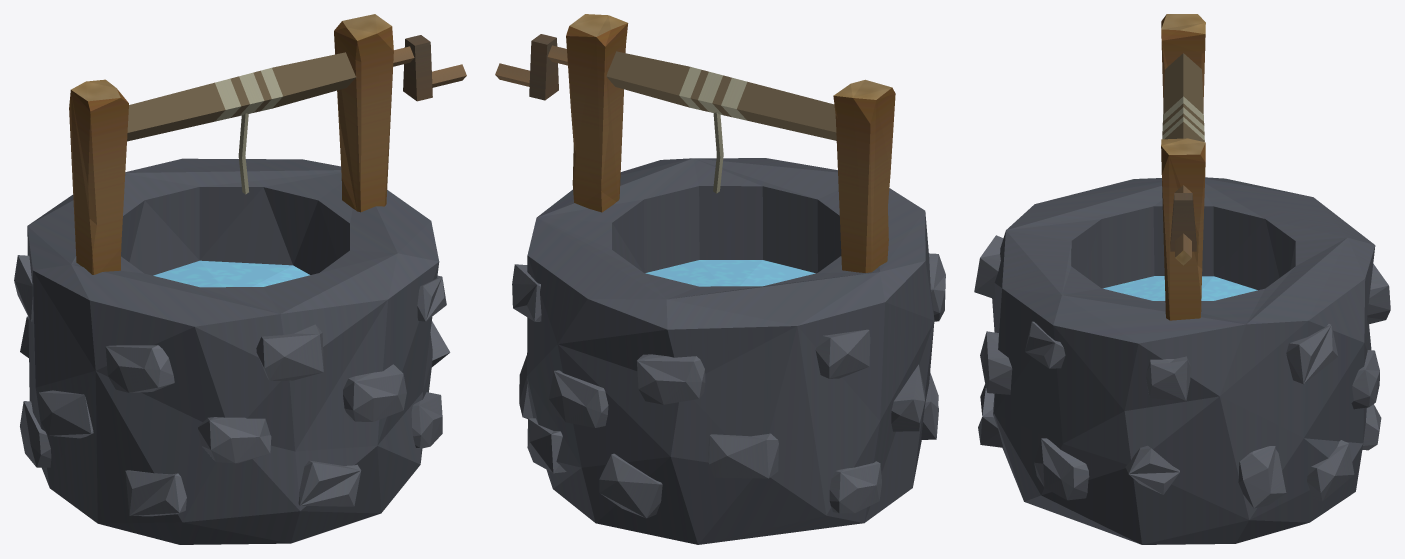
The model's file is Well_2.fbx.
3 views of the same model, side by side, from view 1: azimuth 30°, elevation 25°; view 2: azimuth 150°, elevation 25°; view 3: azimuth 270°, elevation 25° (orthographic). The views are drawn at different scales.
Visible parts, largest first — view 1: polySurface9739; view 2: polySurface9739; view 3: polySurface9739.
Boxes of the visible parts, x1,y1,x2,y2 form: polySurface9739: (14, 14, 466, 544); polySurface9739: (495, 14, 945, 544); polySurface9739: (974, 14, 1390, 544).
Size of the model in its own units: 221 by 206 by 200.
